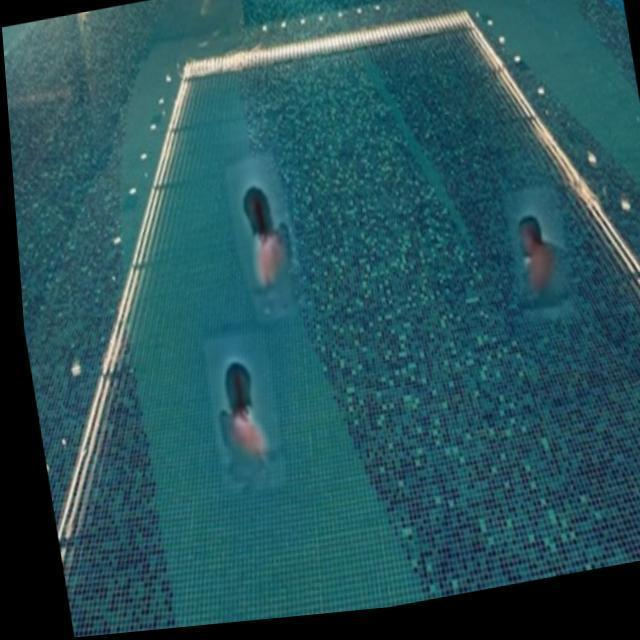swimming: (200, 344, 293, 494), (224, 184, 314, 287), (505, 198, 568, 311)
